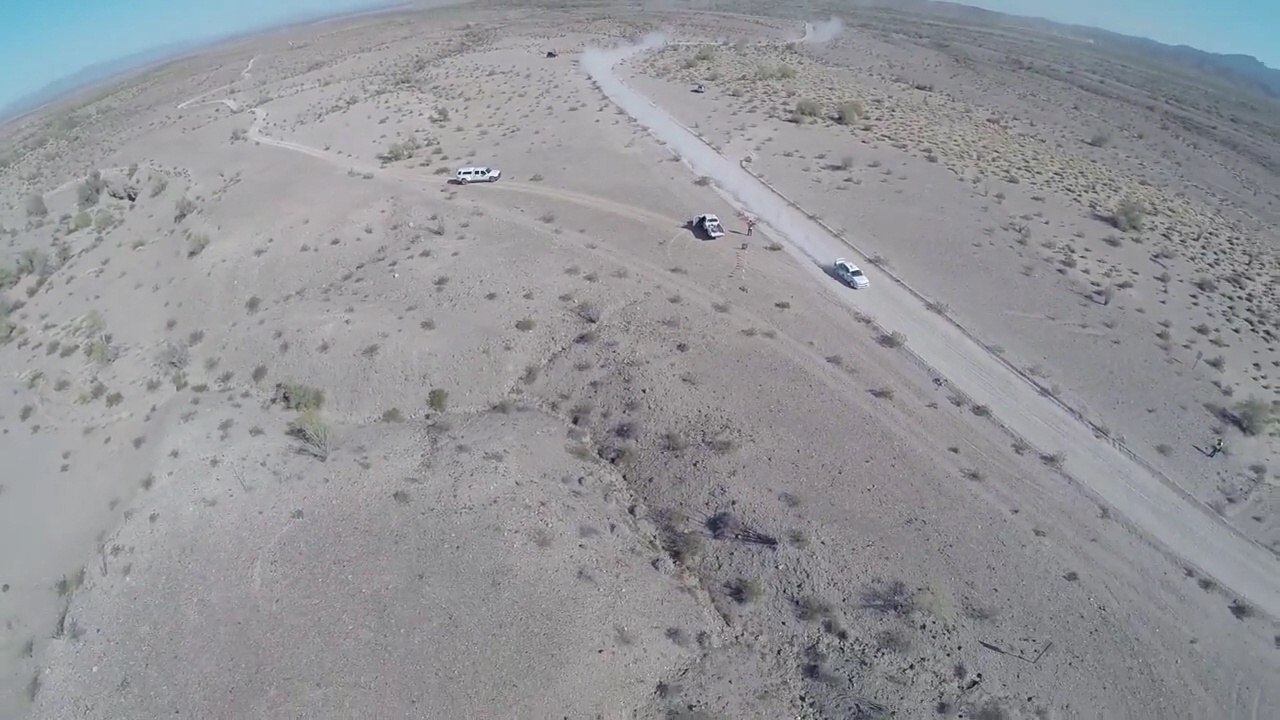araba: (832, 254, 870, 292), (459, 165, 502, 184)
insan: (744, 219, 756, 236)
kamyonet: (695, 212, 725, 239)
